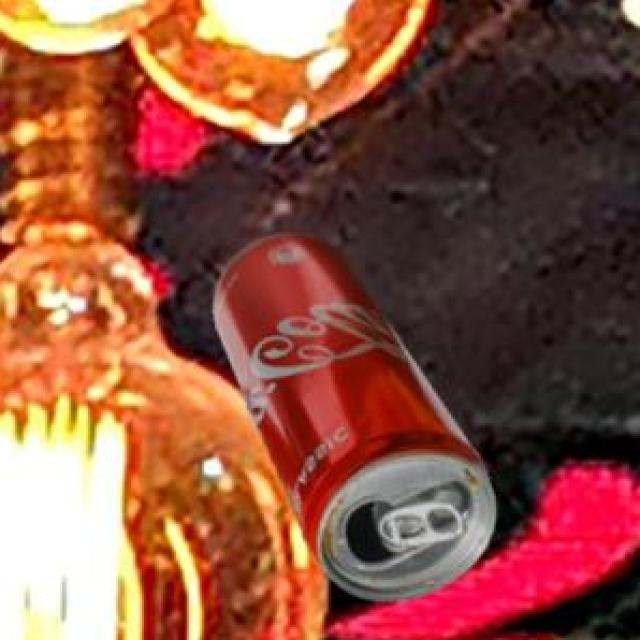logam: (218, 231, 497, 598)
